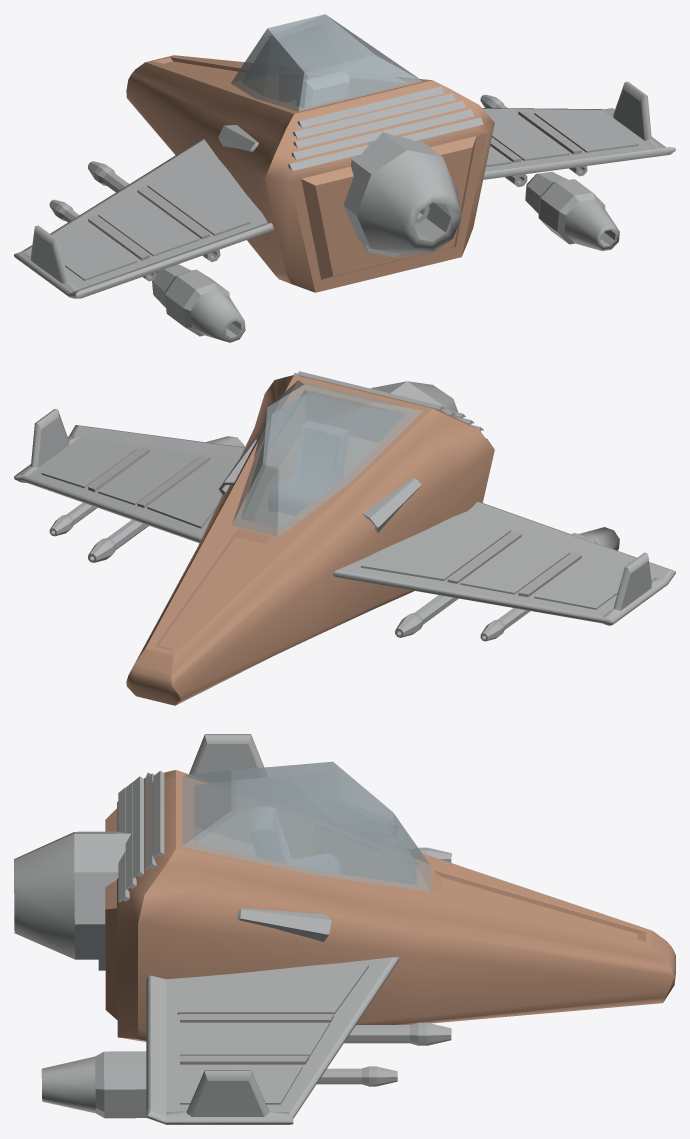
Rendered from Ship_Fixed_01.fbx.
3 renders of one model, top to bottom at view 1: azimuth 30°, elevation 25°; view 2: azimuth 150°, elevation 25°; view 3: azimuth 270°, elevation 25°, orthographic. The views are drawn at different scales.
Visible parts, largest first — view 1: Ship_Fixed_01; view 2: Ship_Fixed_01; view 3: Ship_Fixed_01.
Part boxes in pixels (x1,y1,x2,y2): Ship_Fixed_01: (14,14,675,342); Ship_Fixed_01: (14,371,675,705); Ship_Fixed_01: (14,734,675,1124).
Bounding box in the file's own units: 88.19 × 28.14 × 72.12.
